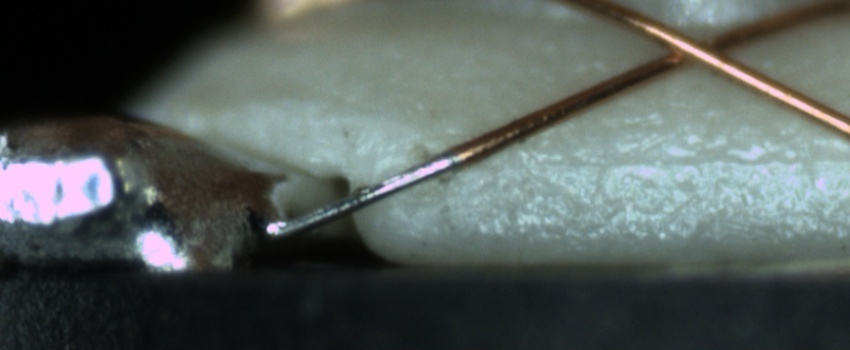CL: (644, 18, 749, 76)
DL: (499, 128, 849, 196)
TS: (267, 151, 463, 238)
